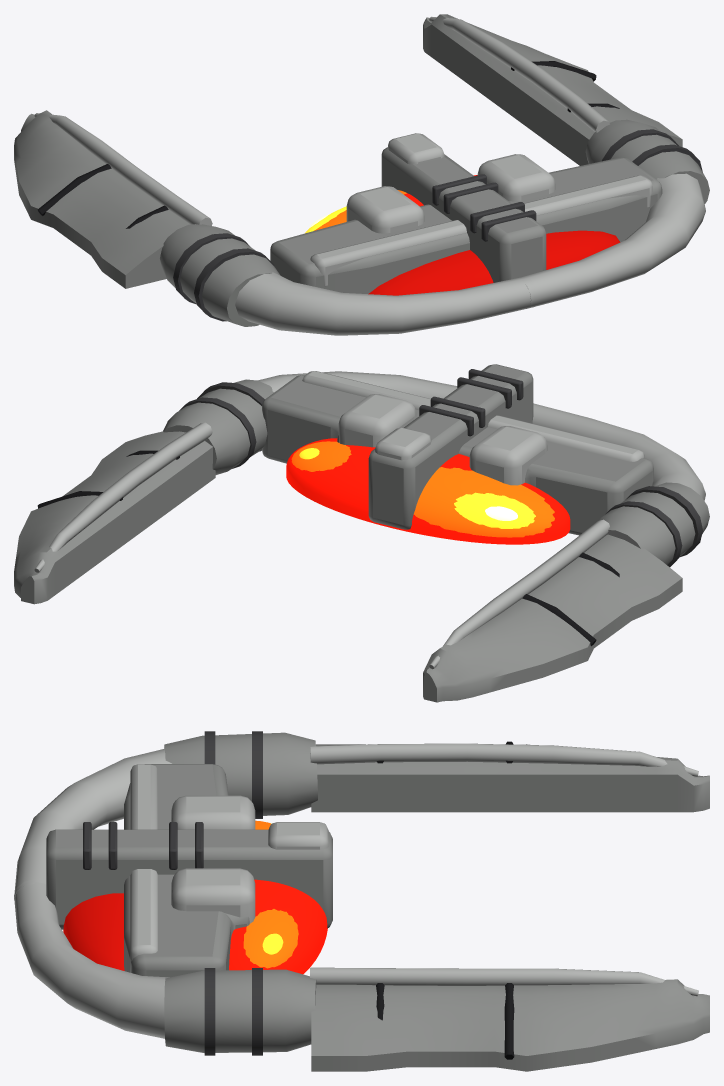
The model's file is store_gun_15.glb.
3 renders of one model, top to bottom at view 1: azimuth 30°, elevation 25°; view 2: azimuth 150°, elevation 25°; view 3: azimuth 270°, elevation 25°, orthographic. The views are drawn at different scales.
Parts seen in each view (by area): view 1: steel, steel_light, bowl_bottom, steel_dark, black; view 2: steel, steel_light, bowl_top, fire_warm, steel_dark, fire_hot, black; view 3: steel, steel_light, steel_dark, bowl_top, bowl_bottom, fire_warm, black.
Part boxes in pixels (<box>): steel: <box>14,14,709,326</box>; steel_light: <box>34,16,705,335</box>; bowl_bottom: <box>368,230,620,295</box>; steel_dark: <box>173,129,702,321</box>; black: <box>37,61,619,228</box>; steel: <box>14,364,709,702</box>; steel_light: <box>34,371,705,669</box>; bowl_top: <box>286,438,570,544</box>; fire_warm: <box>291,441,554,537</box>; steel_dark: <box>179,369,702,567</box>; fire_hot: <box>299,448,535,528</box>; black: <box>37,450,619,646</box>; steel: <box>46,732,709,1071</box>; steel_light: <box>14,743,698,1038</box>; steel_dark: <box>83,731,262,1055</box>; bowl_top: <box>229,879,327,974</box>; bowl_bottom: <box>63,893,124,970</box>; fire_warm: <box>243,820,298,968</box>; black: <box>376,741,514,1059</box>.
Bounding box in the file's own units: 68 × 10.94 × 64.6.
